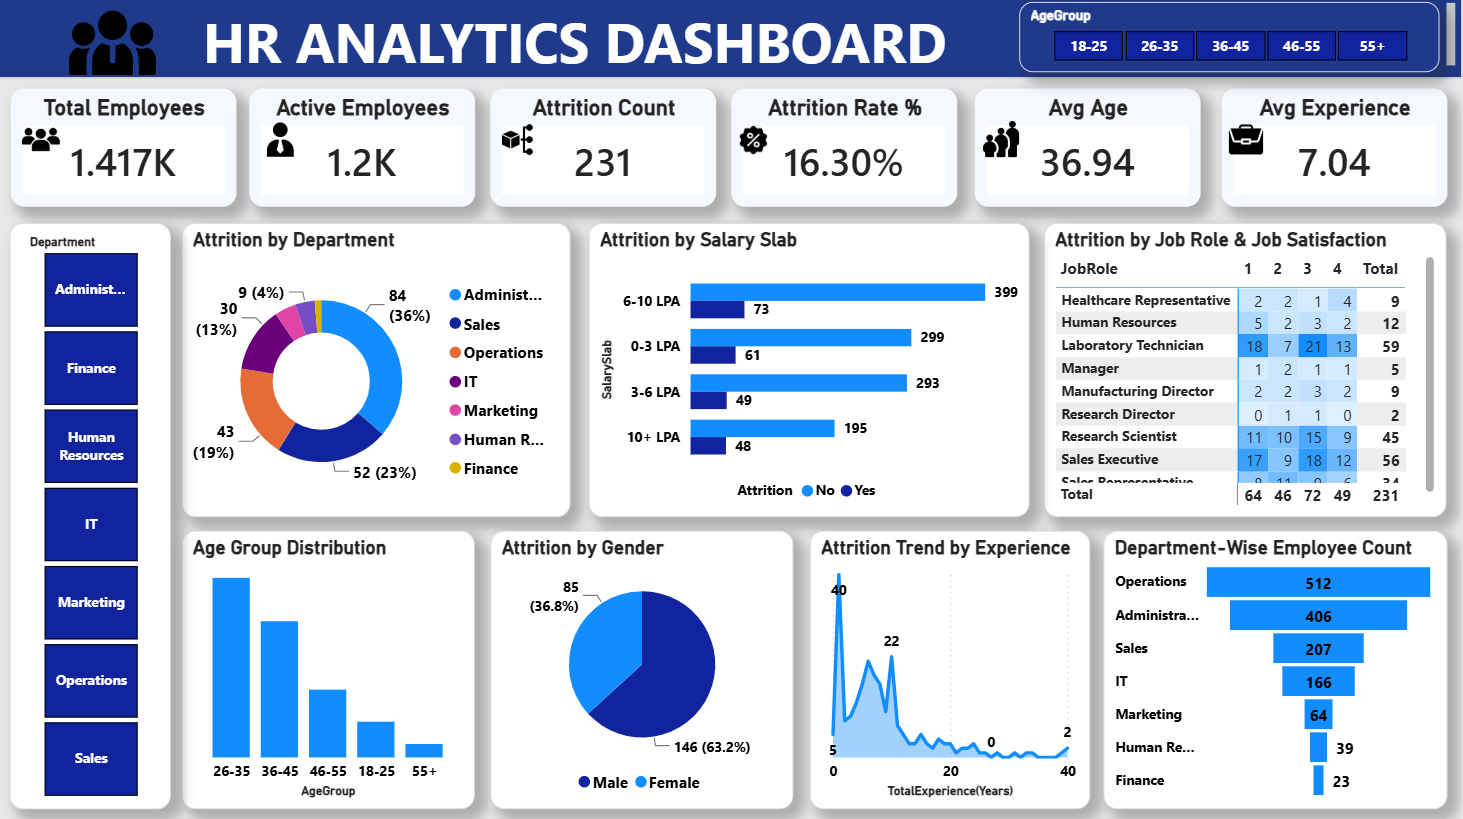

The dashboard page shown, as its layout file describes it:
{"tool":"powerbi","page":{"name":"Page 1","canvas":[1280,720],"ordinal":0},"visuals":[{"type":"textbox","box":[0,0,1279.6,71.4],"z":0},{"type":"cardVisual","title":"Total Employees","fields":{"Data":["CountNonNull(HR_Analytics-4.EmpID)"]},"box":[9.9,81.3,197.1,103.5],"z":1000},{"type":"cardVisual","title":"Active Employees","fields":{"Data":["Sum(HR_Analytics-4.EmployeeCount)"]},"box":[219.2,81.3,197.1,103.5],"z":2000},{"type":"cardVisual","title":"Attrition Count","fields":{"Data":["Sum(HR_Analytics-4.AttritionCount)"]},"box":[429.8,81.3,197.1,103.5],"z":3000},{"type":"cardVisual","title":"Attrition Rate %","fields":{"Data":["HR_Analytics-4.Attrition Rate %"]},"box":[640.4,81.3,197.1,103.5],"z":4000},{"type":"cardVisual","title":"Avg Age","fields":{"Data":["Avg(HR_Analytics-4.Age)"]},"box":[853.5,81.3,197.1,103.5],"z":5000},{"type":"cardVisual","title":"Avg Experience","fields":{"Data":["Avg(HR_Analytics-4.YearsatCompany)"]},"box":[1069,81.3,197.1,103.5],"z":6000},{"type":"donutChart","title":" Attrition by Department","fields":{"Category":["HR_Analytics-4.Department"],"Y":["Sum(HR_Analytics-4.AttritionCount)"]},"box":[160.1,198.3,339.9,257.4],"z":7000},{"type":"pivotTable","title":"Attrition by Job Role & Job Satisfaction","fields":{"Rows":["HR_Analytics-4.JobRole"],"Values":["Sum(HR_Analytics-4.AttritionCount)"],"Columns":["HR_Analytics-4.JobSatisfaction"]},"box":[913.8,198.3,352.2,257.4],"z":8000},{"type":"clusteredBarChart","title":"Attrition by Salary Slab","fields":{"Category":["HR_Analytics-4.SalarySlab"],"Y":["CountNonNull(HR_Analytics-4.EmpID)"],"Series":["HR_Analytics-4.Attrition"]},"box":[516,198.3,385.5,257.4],"z":9000},{"type":"columnChart","title":" Age Group Distribution","fields":{"Category":["HR_Analytics-4.AgeGroup"],"Y":["Sum(HR_Analytics-4.EmployeeCount)"]},"box":[160.1,468,256.2,243.8],"z":10000},{"type":"pieChart","title":"Attrition by Gender","fields":{"Category":["HR_Analytics-4.Gender"],"Y":["Sum(HR_Analytics-4.AttritionCount)"]},"box":[429.8,468,264.8,243.8],"z":11000},{"type":"areaChart","title":"Attrition Trend by Experience","fields":{"Category":["HR_Analytics-4.TotalExperience(Years)"],"Y2":["Sum(HR_Analytics-4.AttritionCount)"]},"box":[709.4,468,245.1,243.8],"z":12000},{"type":"funnel","title":"Department-Wise Employee Count","fields":{"Category":["HR_Analytics-4.Department"],"Y":["CountNonNull(HR_Analytics-4.EmpID)"]},"box":[965.5,468,300.5,243.8],"z":13000},{"type":"slicer","fields":{"Values":["HR_Analytics-4.Department"]},"box":[9.5,198.3,141,513.1],"z":14000},{"type":"slicer","title":"AgeGroup","fields":{"Values":["HR_Analytics-4.AgeGroup"]},"box":[892.7,5.3,367.9,61.5],"z":15000},{"type":"image","box":[19.1,0,160.1,81.6],"z":16000},{"type":"image","box":[19.1,105,33.9,40.3],"z":17000},{"type":"image","box":[1070.8,110.3,38.2,29.7],"z":18000},{"type":"image","box":[860.9,108.1,31.8,33.9],"z":19000},{"type":"image","box":[640.4,113.4,38.2,24.4],"z":20000},{"type":"image","box":[437.9,108.1,30.7,33.9],"z":21000},{"type":"image","box":[226.9,108.1,37.1,33.9],"z":22000}]}

Visuals, with their boxes in screenshot pixels (x1, y1, x2, y2), scaled from the page's 1280x720 canvas onto the 1463x819 screenshot:
textbox: [x1=0, y1=0, x2=1462, y2=81]
"Total Employees" cardVisual: [x1=11, y1=92, x2=237, y2=210]
"Active Employees" cardVisual: [x1=251, y1=92, x2=476, y2=210]
"Attrition Count" cardVisual: [x1=491, y1=92, x2=717, y2=210]
"Attrition Rate %" cardVisual: [x1=732, y1=92, x2=957, y2=210]
"Avg Age" cardVisual: [x1=976, y1=92, x2=1201, y2=210]
"Avg Experience" cardVisual: [x1=1222, y1=92, x2=1447, y2=210]
" Attrition by Department" donutChart: [x1=183, y1=226, x2=571, y2=518]
"Attrition by Job Role & Job Satisfaction" pivotTable: [x1=1044, y1=226, x2=1447, y2=518]
"Attrition by Salary Slab" clusteredBarChart: [x1=590, y1=226, x2=1030, y2=518]
" Age Group Distribution" columnChart: [x1=183, y1=532, x2=476, y2=810]
"Attrition by Gender" pieChart: [x1=491, y1=532, x2=794, y2=810]
"Attrition Trend by Experience" areaChart: [x1=811, y1=532, x2=1091, y2=810]
"Department-Wise Employee Count" funnel: [x1=1104, y1=532, x2=1447, y2=810]
slicer - HR_Analytics-4.Department: [x1=11, y1=226, x2=172, y2=809]
"AgeGroup" slicer: [x1=1020, y1=6, x2=1441, y2=76]
image: [x1=22, y1=0, x2=205, y2=93]
image: [x1=22, y1=119, x2=61, y2=165]
image: [x1=1224, y1=125, x2=1268, y2=159]
image: [x1=984, y1=123, x2=1020, y2=162]
image: [x1=732, y1=129, x2=776, y2=157]
image: [x1=501, y1=123, x2=536, y2=162]
image: [x1=259, y1=123, x2=302, y2=162]
